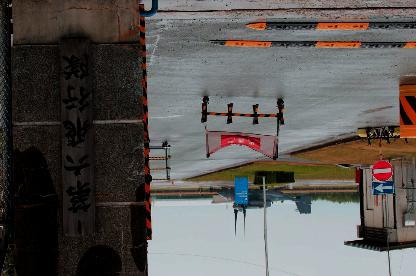Tornado: (218, 187, 312, 239)
